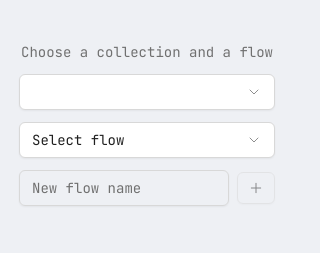
Test: FlowPane picker › refuses to create a flow over a corrupt file with the same name
Expected: the text "Select flow" is shown, [32,130,124,150]
Type "broken" into the field labelled "New flow name". click: (124, 188)
box: [19,170,229,206]
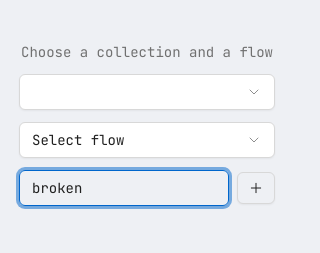
Click the button named "Create flow". click: (256, 188)
box: [237,172,275,204]
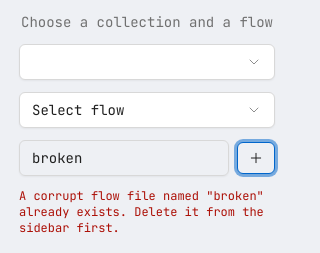
Result: the message shows "corrupt" at [19,188,264,236]
